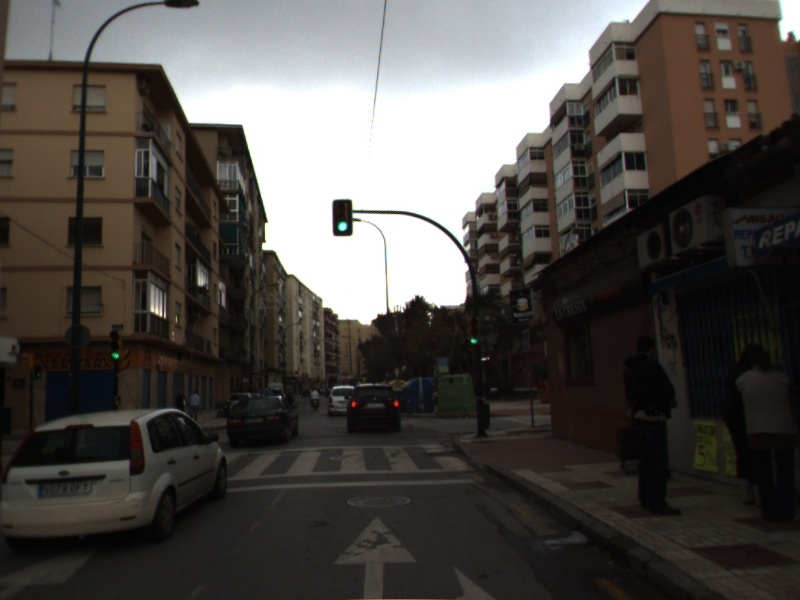STRAIGHT: (330, 514, 420, 600)
